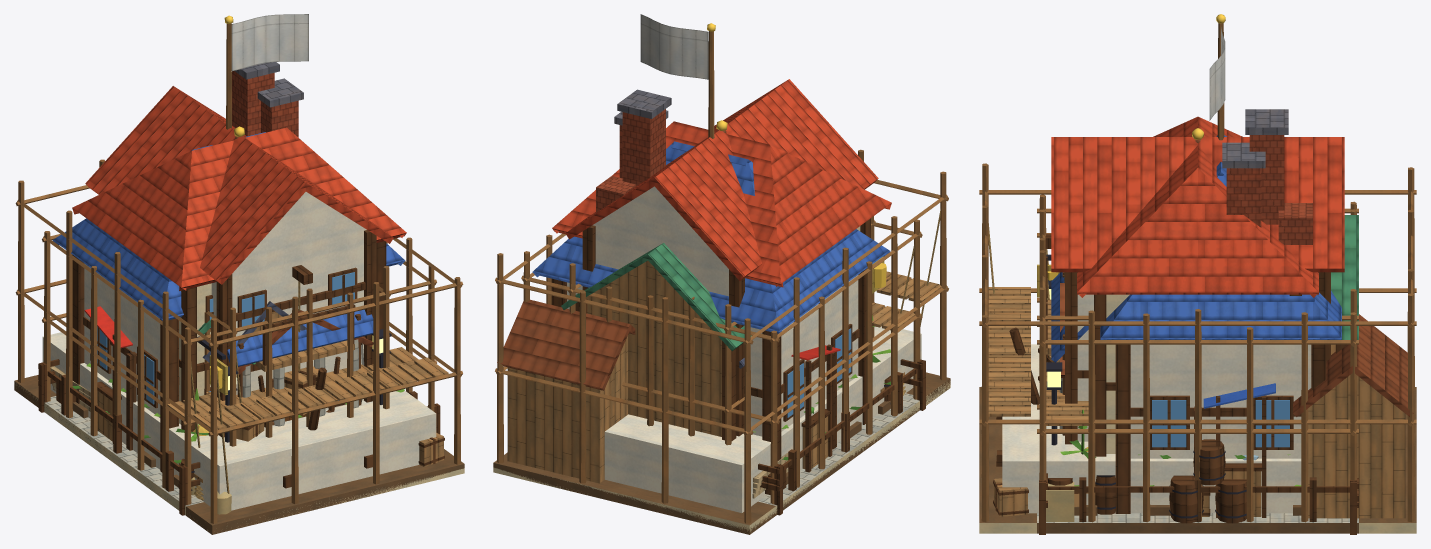
The model's file is city.glb.
3 views of the same model, side by side, from view 1: azimuth 30°, elevation 25°; view 2: azimuth 150°, elevation 25°; view 3: azimuth 270°, elevation 25° (orthographic). The views are drawn at different scales.
Parts seen in each view (by area): view 1: Scaffold_3x4, HouseLarge, CaptainsHall, Tavern, Scaffold_3x3, Scaffold_2x3, Farm, Market, Shipwright, Warehouse, HempField; view 2: Scaffold_3x4, HouseLarge, CaptainsHall, Shipwright, Tavern, Warehouse, Scaffold_3x3, Market, Scaffold_2x3, Farm, HempField; view 3: CaptainsHall, Tavern, Scaffold_3x4, HouseLarge, Shipwright, Scaffold_3x3, Farm, Market, Warehouse, HempField, Scaffold_2x3.
Boxes of the visible parts, x1=… form: Scaffold_3x4: x1=14, y1=159, x2=464, y2=534; HouseLarge: x1=85, y1=62, x2=393, y2=437; CaptainsHall: x1=45, y1=14, x2=405, y2=506; Tavern: x1=72, y1=78, x2=406, y2=482; Scaffold_3x3: x1=42, y1=231, x2=436, y2=504; Scaffold_2x3: x1=205, y1=266, x2=391, y2=446; Farm: x1=38, y1=359, x2=440, y2=515; Market: x1=44, y1=306, x2=255, y2=515; Shipwright: x1=14, y1=356, x2=464, y2=530; Warehouse: x1=198, y1=265, x2=318, y2=441; HempField: x1=38, y1=363, x2=405, y2=487; Scaffold_3x4: x1=493, y1=149, x2=950, y2=534; HouseLarge: x1=565, y1=79, x2=878, y2=436; CaptainsHall: x1=532, y1=14, x2=919, y2=505; Shipwright: x1=493, y1=299, x2=950, y2=531; Tavern: x1=552, y1=110, x2=904, y2=392; Warehouse: x1=561, y1=243, x2=751, y2=440; Scaffold_3x3: x1=521, y1=219, x2=922, y2=515; Market: x1=776, y1=344, x2=919, y2=511; Scaffold_2x3: x1=567, y1=216, x2=875, y2=445; Farm: x1=758, y1=359, x2=925, y2=515; HempField: x1=753, y1=315, x2=890, y2=514; CaptainsHall: x1=1037, y1=14, x2=1358, y2=522; Tavern: x1=1037, y1=116, x2=1358, y2=533; Scaffold_3x4: x1=979, y1=163, x2=1416, y2=522; HouseLarge: x1=1045, y1=109, x2=1344, y2=444; Shipwright: x1=979, y1=314, x2=1416, y2=533; Scaffold_3x3: x1=1037, y1=194, x2=1358, y2=522; Farm: x1=1039, y1=447, x2=1358, y2=534; Market: x1=1202, y1=383, x2=1275, y2=517; Warehouse: x1=1038, y1=215, x2=1358, y2=382; HempField: x1=1046, y1=409, x2=1358, y2=521; Scaffold_2x3: x1=1037, y1=209, x2=1358, y2=409.
Size of the model in its own units: 5.72 by 8.76 by 7.6.
Materials: 75 (51 with a texture image).
